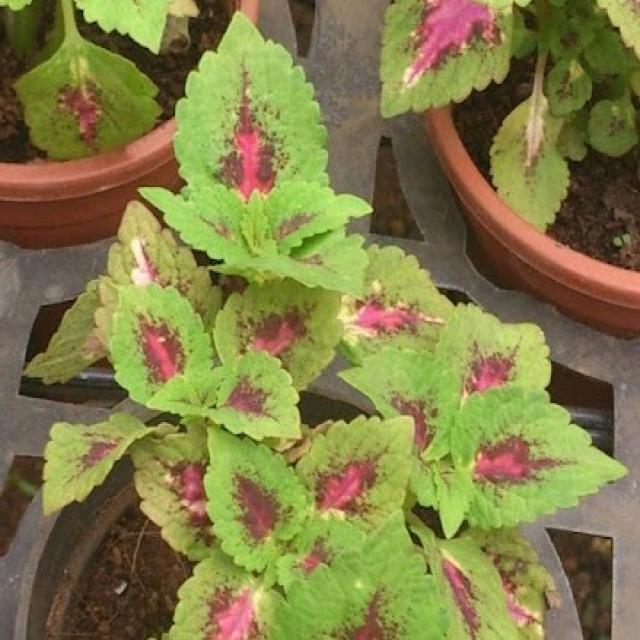Coleus: (85, 104, 622, 638)
